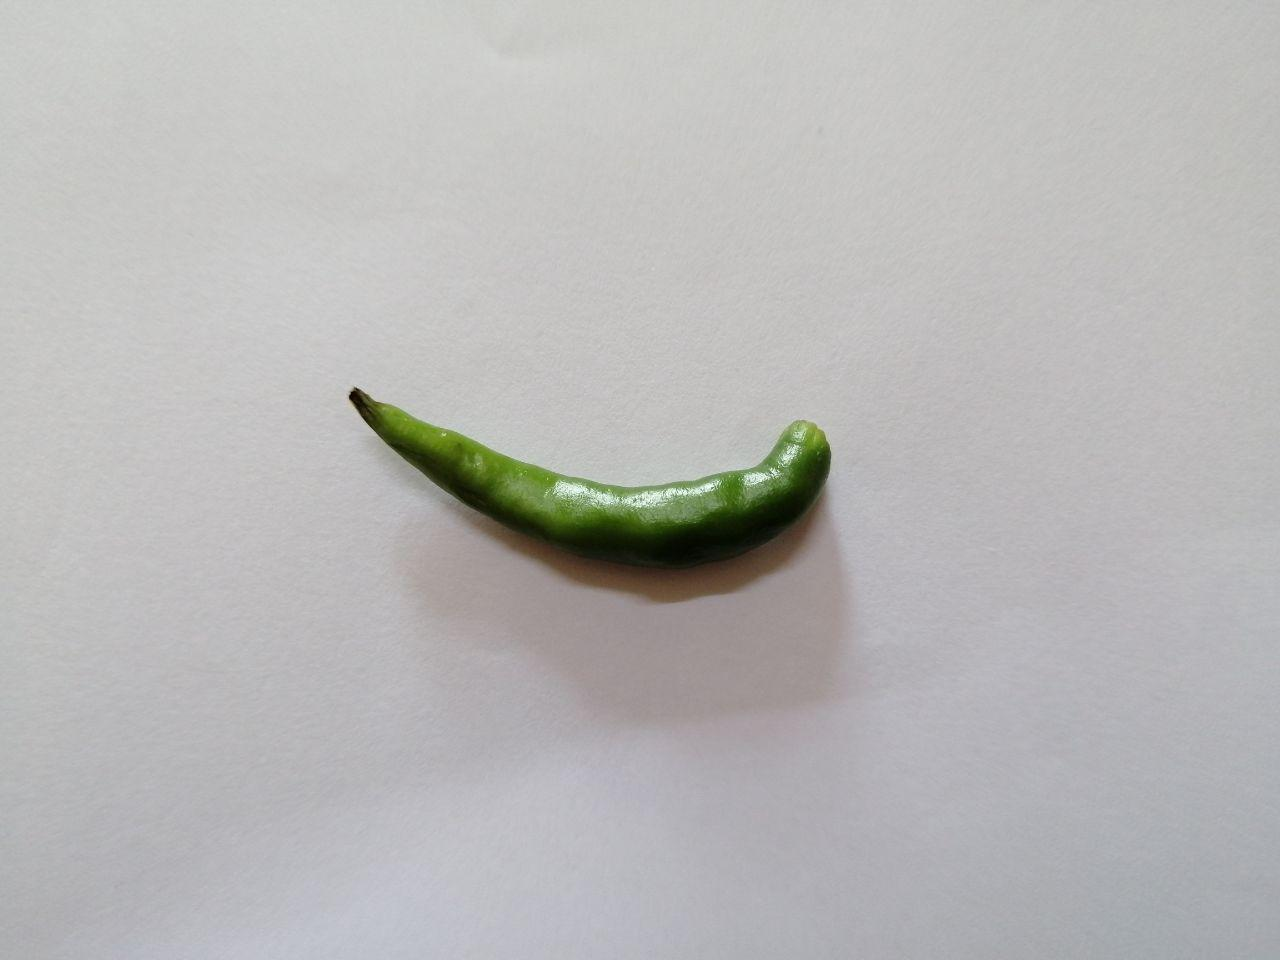lada hijau: (325, 365, 859, 584)
